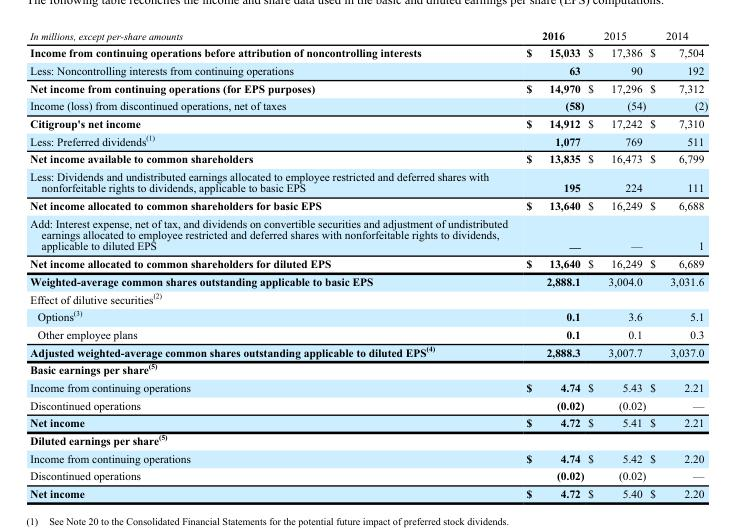table: (29, 28, 707, 499)
table column: (29, 28, 516, 499), (516, 28, 585, 499), (585, 28, 647, 499), (647, 28, 707, 499)
table column header: (29, 28, 707, 43)
table projected row header: (29, 359, 707, 378), (29, 430, 707, 448), (29, 289, 707, 306)
table row: (29, 214, 707, 254), (29, 167, 707, 196), (29, 306, 707, 325), (29, 359, 707, 378), (29, 43, 707, 61), (29, 78, 707, 96), (29, 96, 707, 114), (29, 131, 707, 149), (29, 149, 707, 167), (29, 196, 707, 214), (29, 254, 707, 272), (29, 395, 707, 413), (29, 430, 707, 448), (29, 448, 707, 466), (29, 466, 707, 484), (29, 61, 707, 78), (29, 114, 707, 131), (29, 272, 707, 289), (29, 289, 707, 306), (29, 325, 707, 342), (29, 342, 707, 359), (29, 378, 707, 395), (29, 413, 707, 430), (29, 28, 707, 43), (29, 484, 707, 499)
